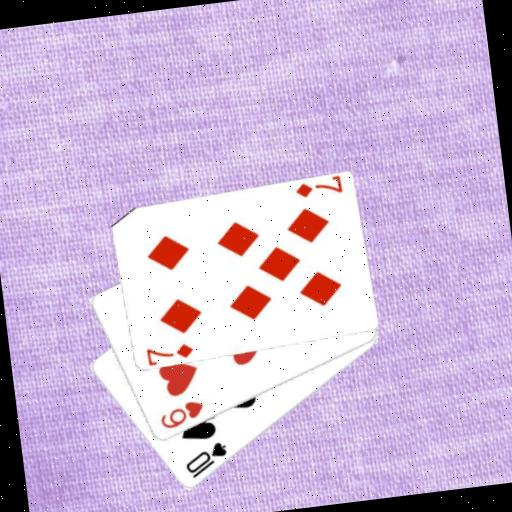10S: (180, 438, 232, 481)
6H: (155, 397, 207, 433)
7D: (142, 340, 196, 366), (292, 176, 344, 201)
